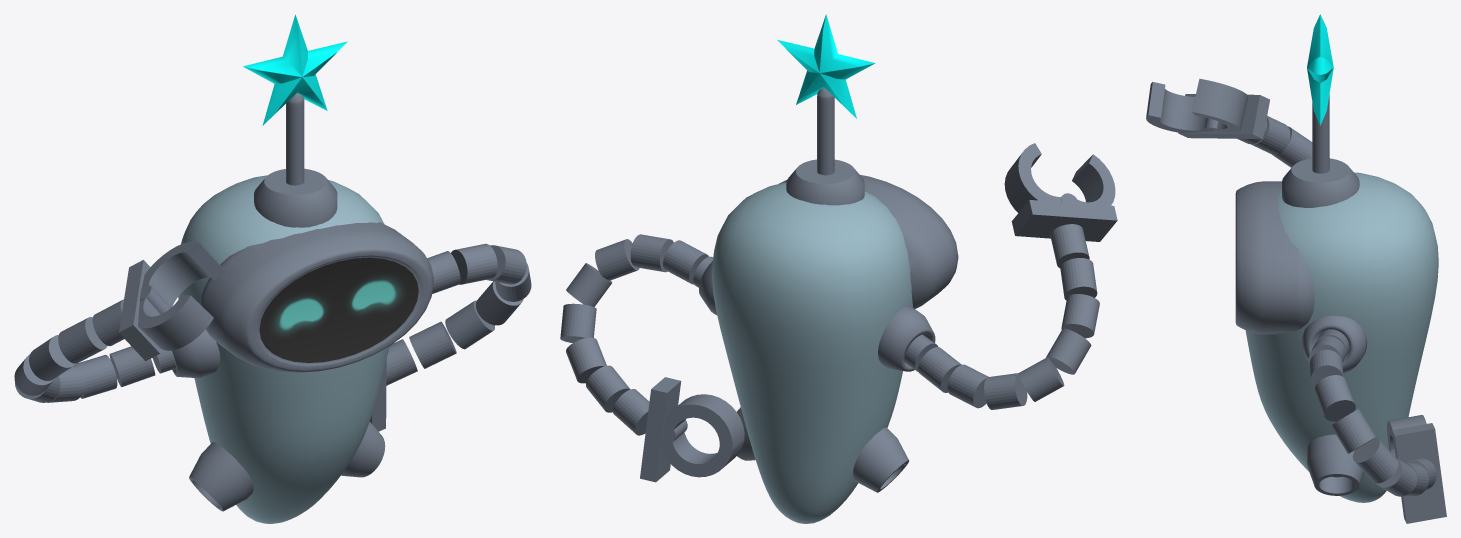
3 renders of one model, left to right at view 1: azimuth 30°, elevation 25°; view 2: azimuth 150°, elevation 25°; view 3: azimuth 270°, elevation 25°, orthographic. The views are drawn at different scales.
Parts seen in each view (by area): view 1: main body; view 2: main body; view 3: main body.
Part boxes in pixels (x1,y1,x2,y2): main body: (14,14,531,523); main body: (560,14,1117,523); main body: (1146,14,1446,523).
Size of the model in its own units: 5.56 by 5.23 by 2.93.
4 materials, 1 textured.
